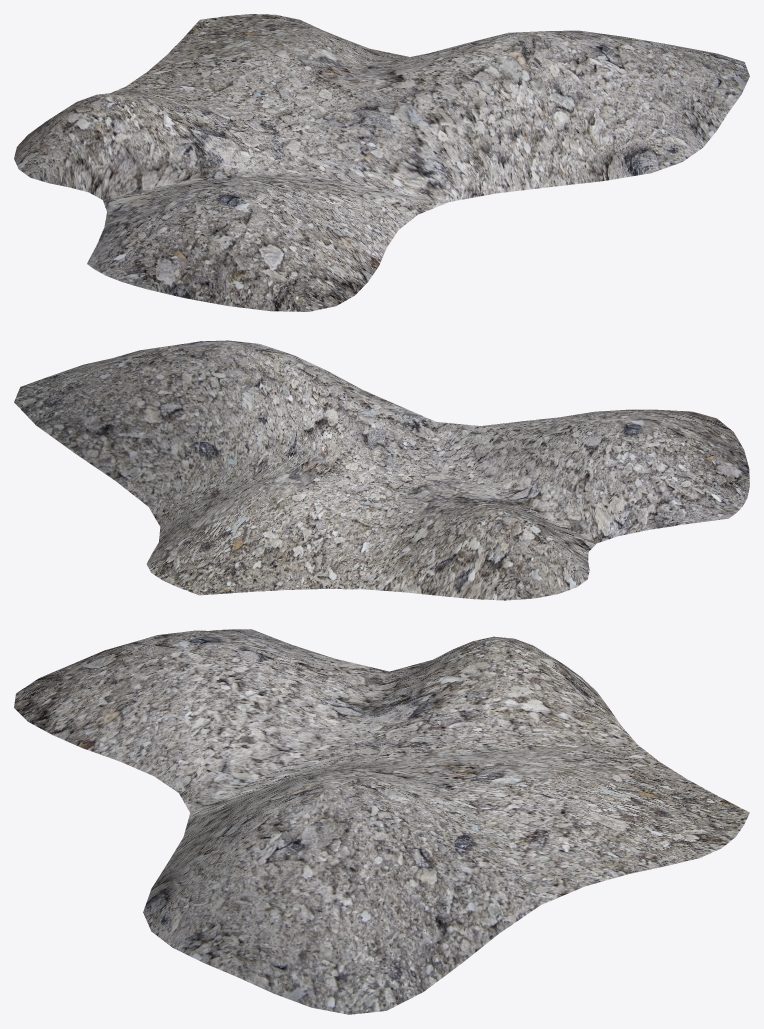
The model's file is Ashes_02.fbx.
3 views of the same model, one above another, from view 1: azimuth 30°, elevation 25°; view 2: azimuth 150°, elevation 25°; view 3: azimuth 270°, elevation 25° (orthographic). The views are drawn at different scales.
Parts seen in each view (by area): view 1: polySurface2; view 2: polySurface2; view 3: polySurface2.
Part boxes in pixels (bbox=[...]): polySurface2: bbox=[14, 14, 749, 311]; polySurface2: bbox=[14, 340, 749, 600]; polySurface2: bbox=[14, 629, 749, 1014].
Bounding box in the file's own units: 99.18 × 13.68 × 80.23.
Materials: 1 (1 with a texture image).
